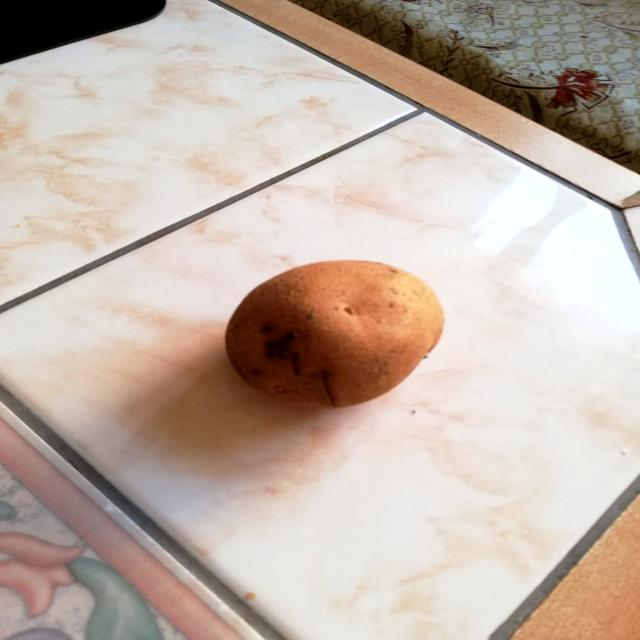potato: (218, 245, 454, 416)
